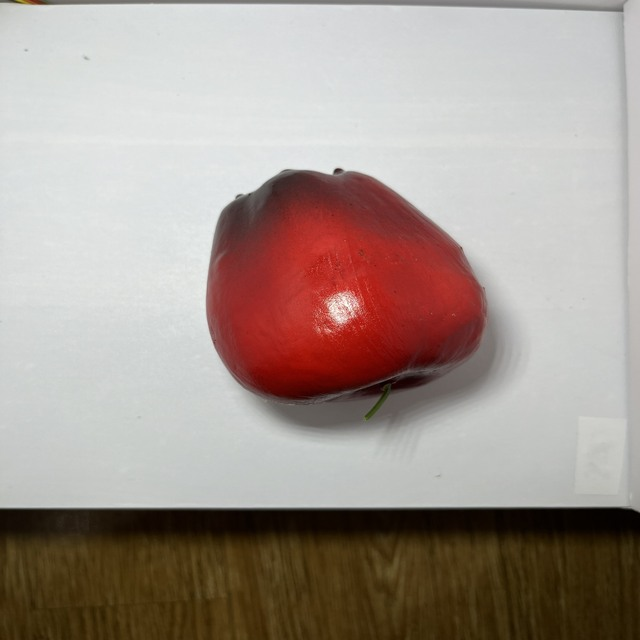Tao: (201, 158, 495, 414)
